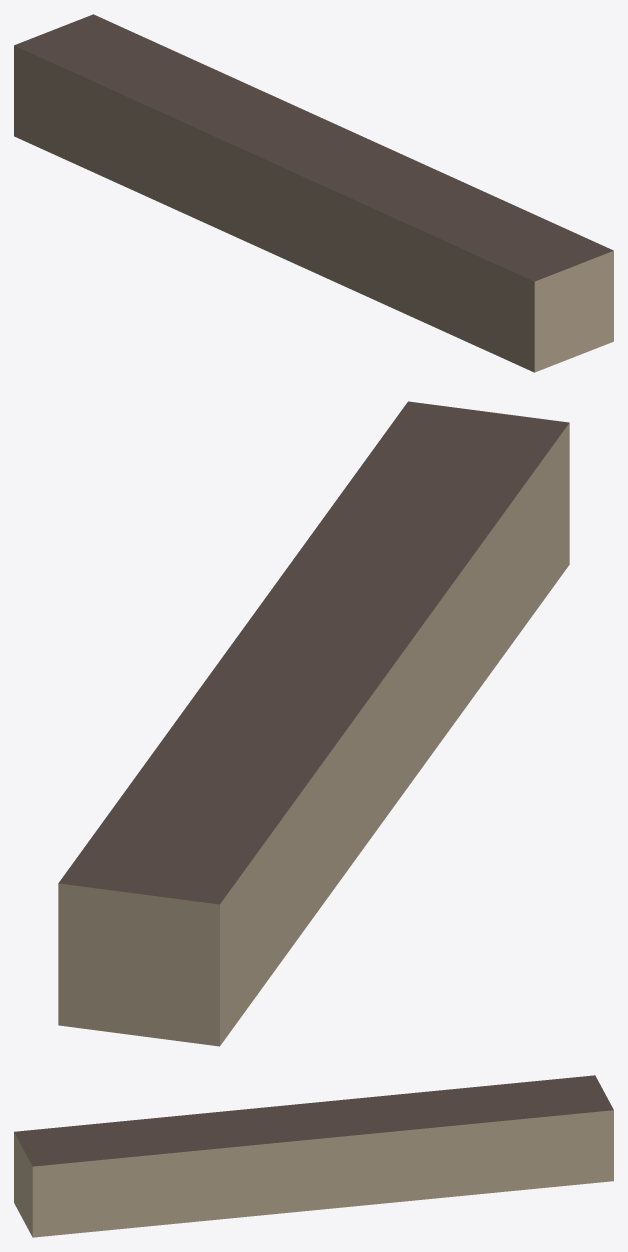
3 views of the same model, one above another, from view 1: azimuth 30°, elevation 25°; view 2: azimuth 150°, elevation 25°; view 3: azimuth 270°, elevation 25° (orthographic). The views are drawn at different scales.
Visible parts, largest first — view 1: HP-w859488613; view 2: HP-w859488613; view 3: HP-w859488613.
Boxes of the visible parts, bbox=[...] form: HP-w859488613: bbox=[14, 14, 613, 372]; HP-w859488613: bbox=[58, 401, 569, 1046]; HP-w859488613: bbox=[14, 1075, 613, 1237].
Size of the model in its own units: 24.82 by 9 by 68.92.
